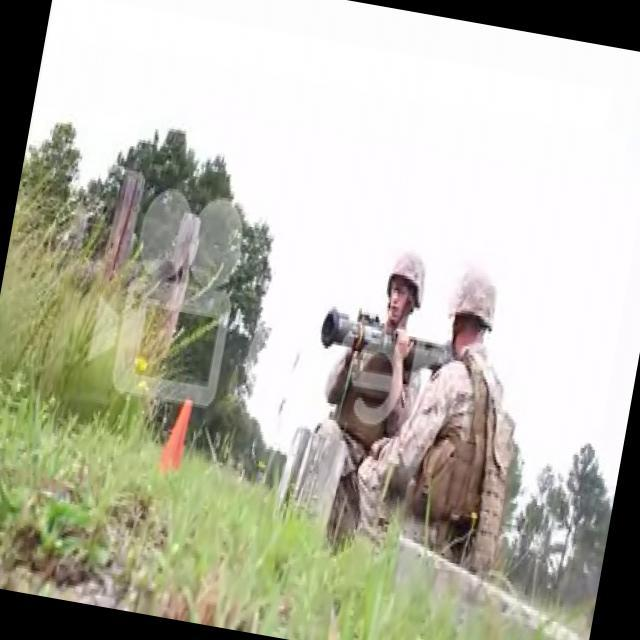rocket: (319, 308, 453, 372)
